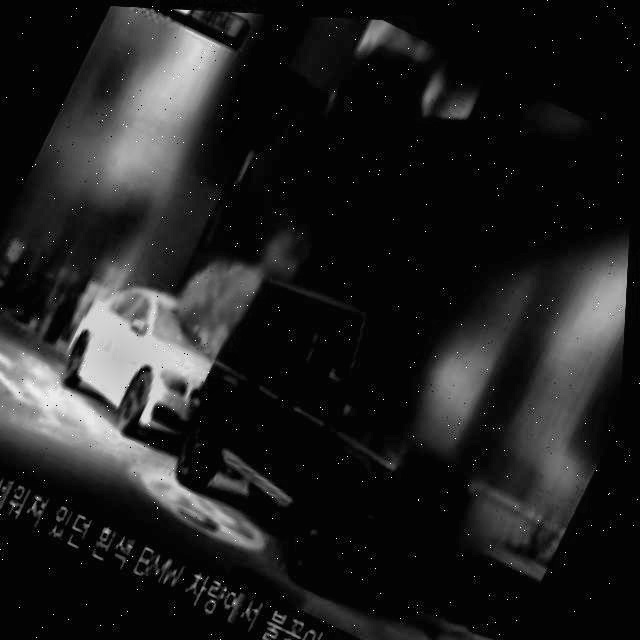Fire: (160, 171, 329, 372)
Smoke: (236, 10, 449, 234)
